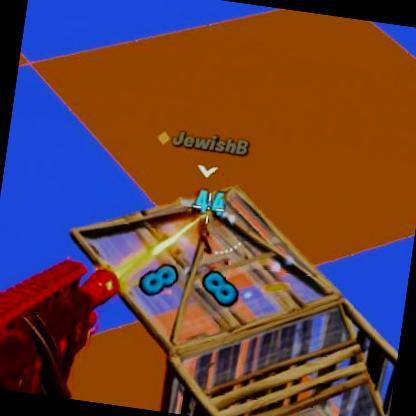person: (188, 188, 220, 256)
